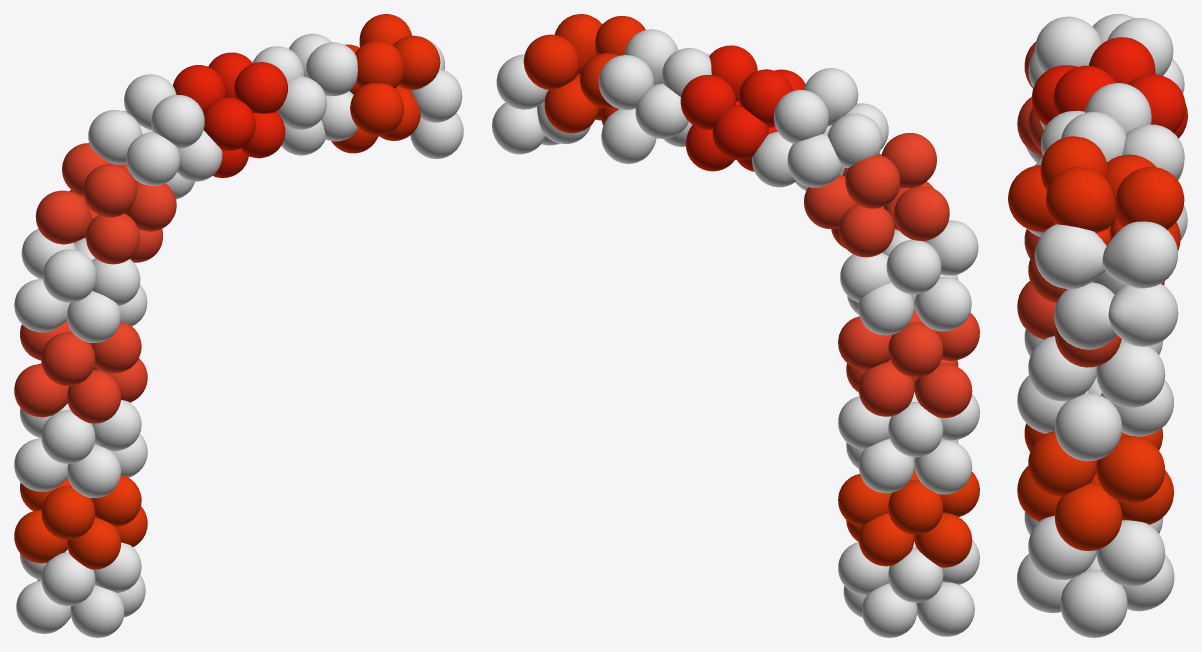
The model's file is half-arc-cluster-optimized.glb.
3 renders of one model, left to right at view 1: azimuth 30°, elevation 25°; view 2: azimuth 150°, elevation 25°; view 3: azimuth 270°, elevation 25°, orthographic. The views are drawn at different scales.
Visible parts, largest first — view 1: Sphere, Sphere.031; view 2: Sphere, Sphere.031; view 3: Sphere, Sphere.031.
Part boxes in pixels (bbox=[...]): Sphere: bbox=[14, 14, 463, 637]; Sphere.031: bbox=[14, 74, 222, 342]; Sphere: bbox=[492, 14, 979, 637]; Sphere.031: bbox=[752, 68, 978, 335]; Sphere: bbox=[1008, 37, 1187, 637]; Sphere.031: bbox=[1026, 14, 1184, 236].
Bounding box in the file's own units: 19.35 × 21.56 × 5.39.
1 material, 1 textured.
